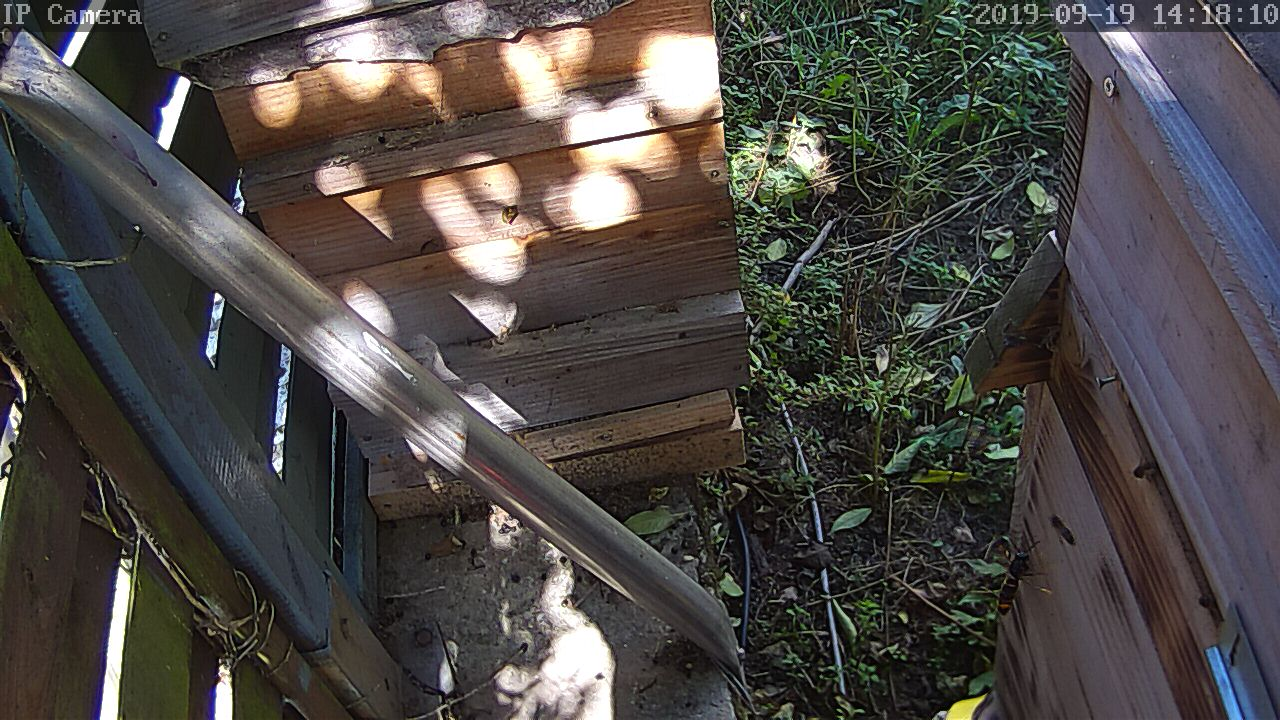bee: (1126, 449, 1161, 486)
hornet: (996, 547, 1037, 619)
